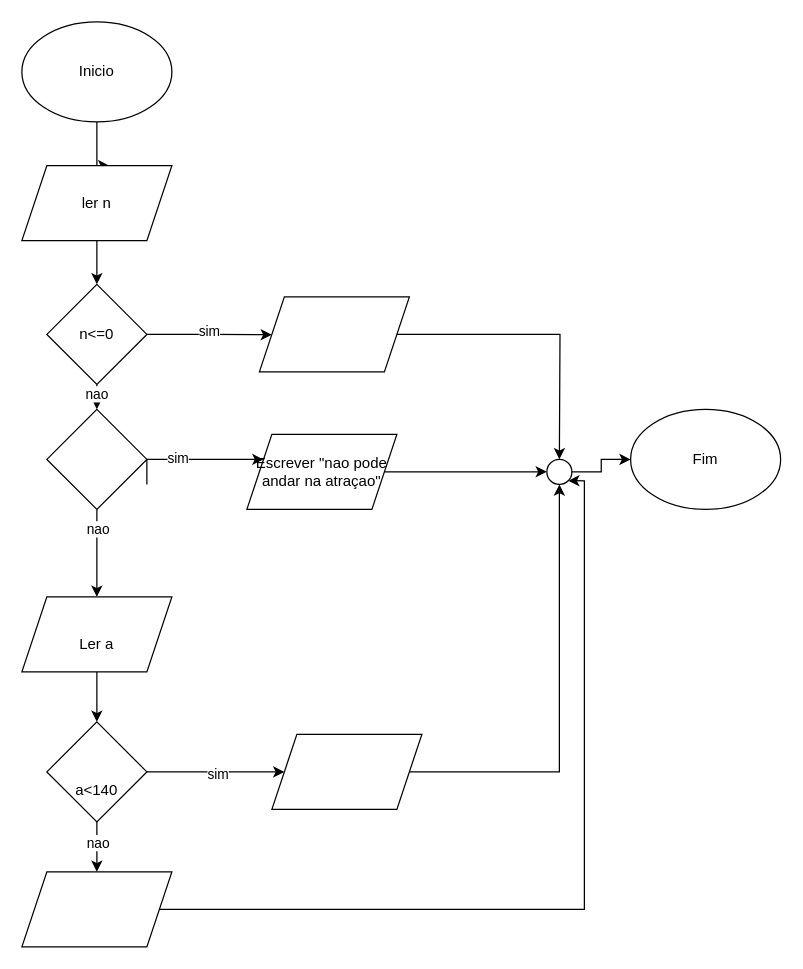
This 803x969 diagram has some shape labels left out. Each missing label, with the centre of its shape:
escrever "Dados inválidos": pixel 333 334
escrever "Pode andar sozinho": pixel 96 909
escrever "So pode andar acompanhado por um adulto": pixel 346 771
n<12: pixel 96 458
